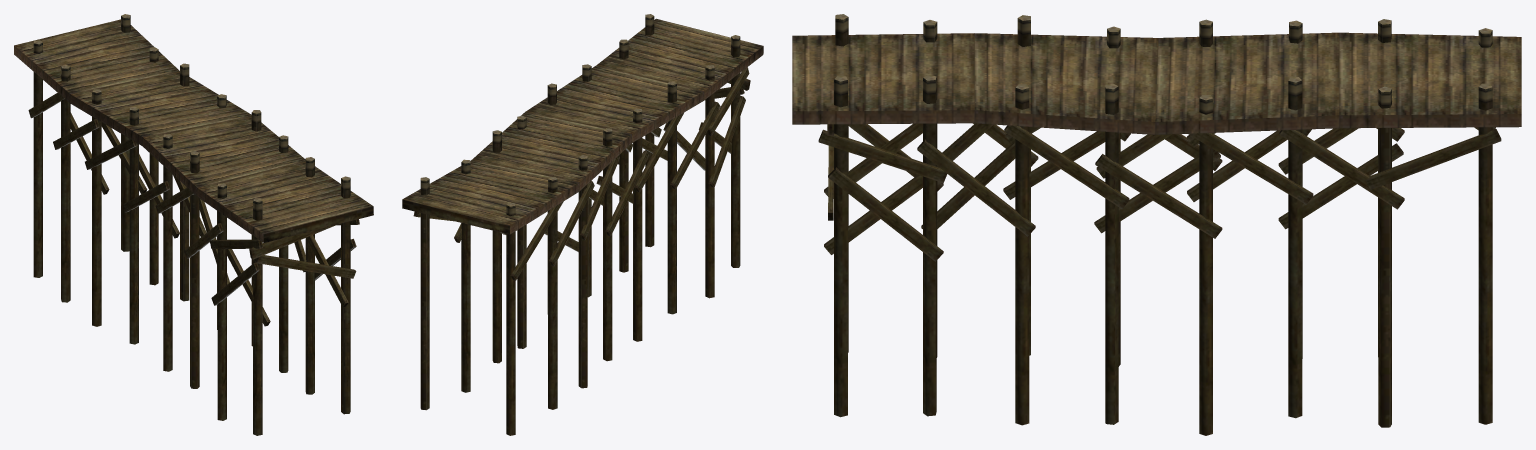
Rendered from nsm-general_obj_01_3.fbx.
3 views of the same model, side by side, from view 1: azimuth 30°, elevation 25°; view 2: azimuth 150°, elevation 25°; view 3: azimuth 270°, elevation 25° (orthographic). The views are drawn at different scales.
Parts seen in each view (by area): view 1: Mesh01; view 2: Mesh01; view 3: Mesh01.
Boxes of the visible parts, x1=… form: Mesh01: x1=14, y1=14, x2=373, y2=435; Mesh01: x1=402, y1=14, x2=763, y2=435; Mesh01: x1=792, y1=14, x2=1521, y2=435.
Size of the model in its own units: 5.44 by 10.65 by 20.
